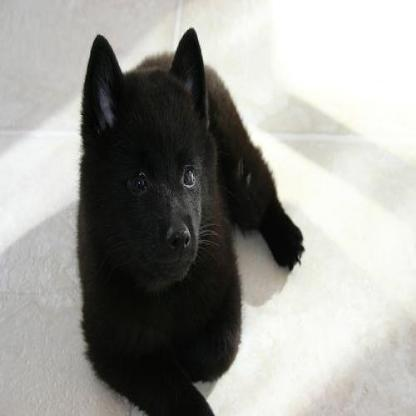schipperke: (75, 25, 304, 413)
